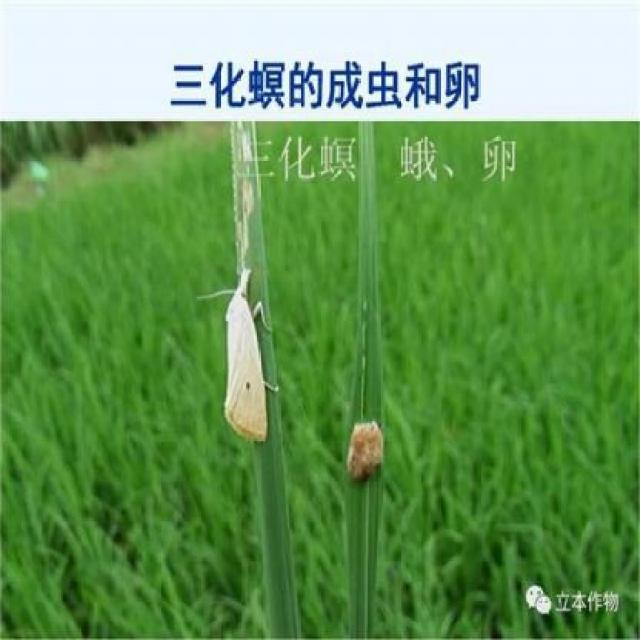stem-borer: (218, 262, 277, 446)
